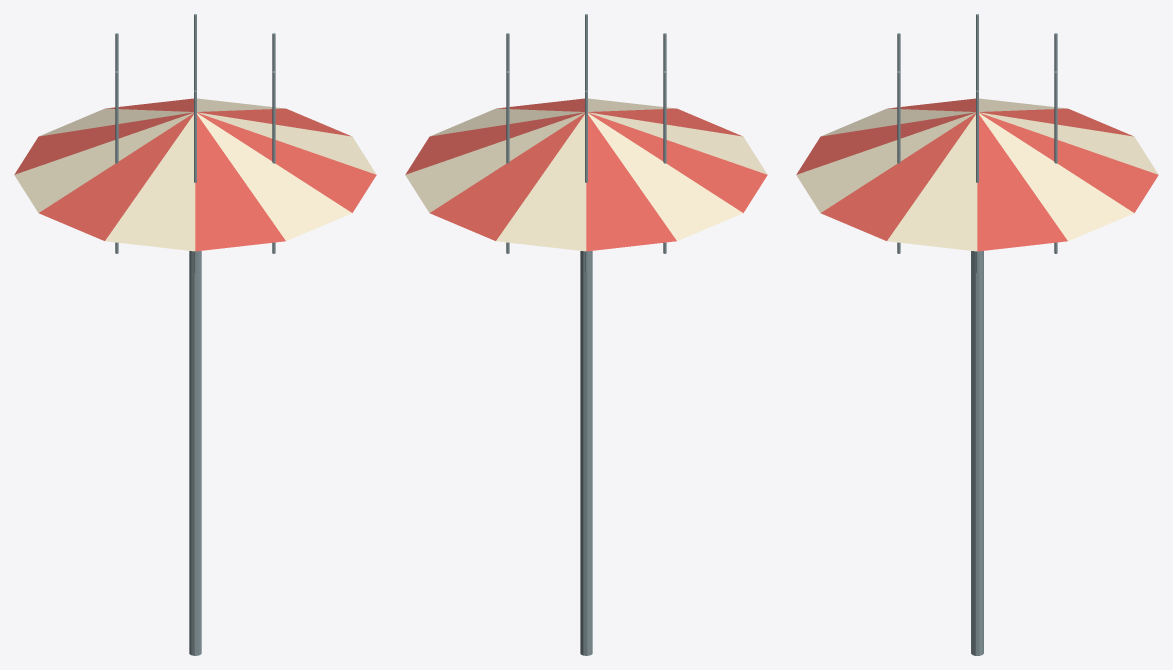
The model's file is boundary-umbrella.glb.
3 views of the same model, side by side, from view 1: azimuth 30°, elevation 25°; view 2: azimuth 150°, elevation 25°; view 3: azimuth 270°, elevation 25° (orthographic).
Visible parts, largest first — view 1: Umbrella | alternating canopy panels, Umbrella | pole; view 2: Umbrella | alternating canopy panels, Umbrella | pole; view 3: Umbrella | alternating canopy panels, Umbrella | pole.
Boxes of the visible parts, <box> form: Umbrella | alternating canopy panels: <box>14,98,376,251</box>; Umbrella | pole: <box>189,251,201,655</box>; Umbrella | alternating canopy panels: <box>405,98,767,251</box>; Umbrella | pole: <box>580,251,592,655</box>; Umbrella | alternating canopy panels: <box>796,98,1158,251</box>; Umbrella | pole: <box>971,251,983,655</box>.
Size of the model in its own units: 1.36 by 2.48 by 1.36.
